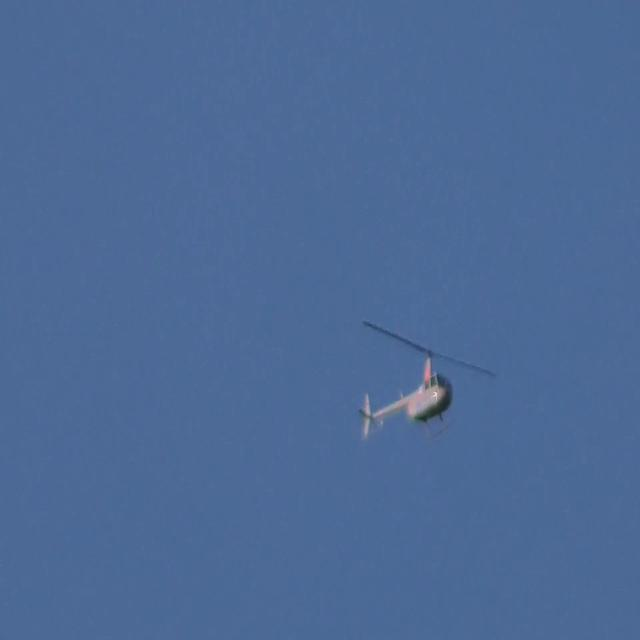CIV_HELO: (358, 349, 456, 446)
